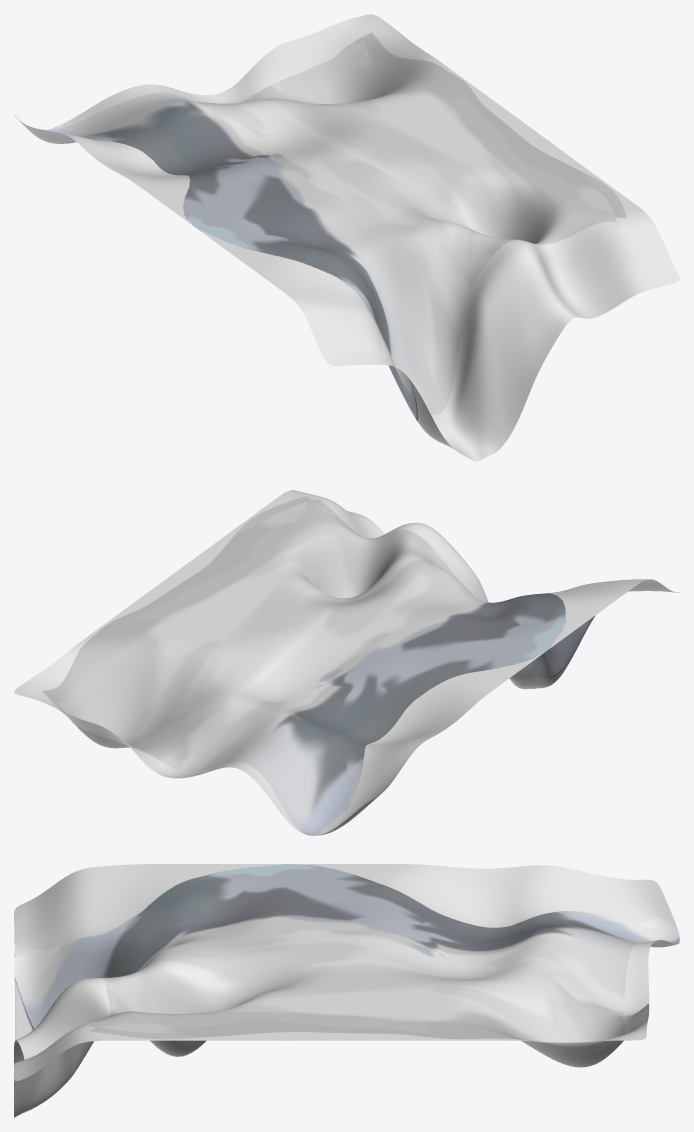
Rendered from terrain.fbx.
3 views of the same model, one above another, from view 1: azimuth 30°, elevation 25°; view 2: azimuth 150°, elevation 25°; view 3: azimuth 270°, elevation 25° (orthographic). The views are drawn at different scales.
Parts seen in each view (by area): view 1: Plane; view 2: Plane; view 3: Plane.
Part boxes in pixels (x1,y1,x2,y2): Plane: (14,14,679,461); Plane: (14,490,679,835); Plane: (14,864,679,1117).
Size of the model in its own units: 10128 by 4650 by 15951.
